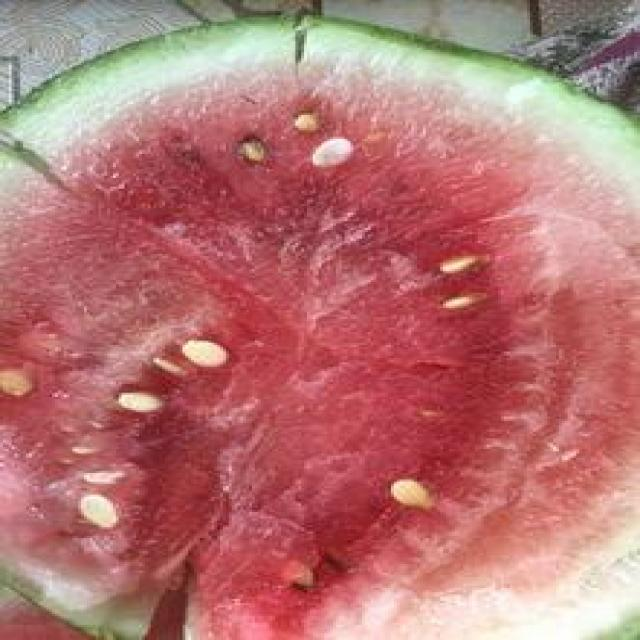Wet Waste: (3, 11, 637, 638)
